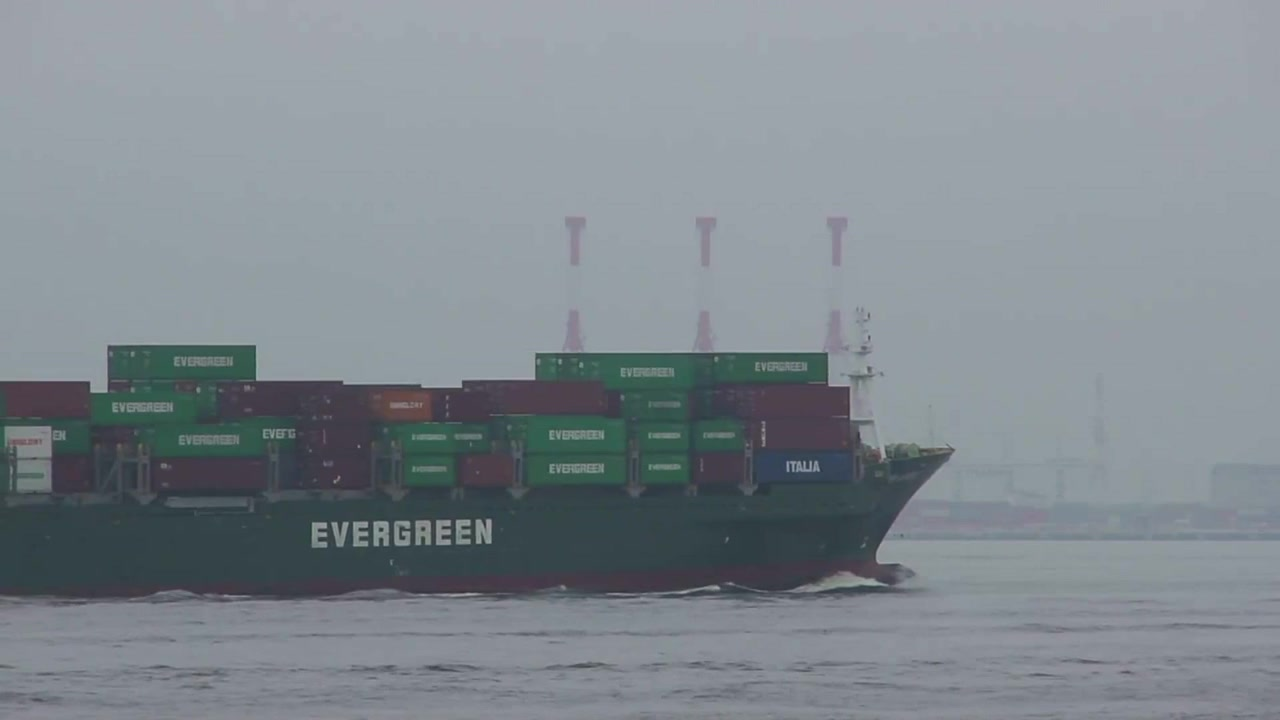boat: (4, 309, 960, 593)
